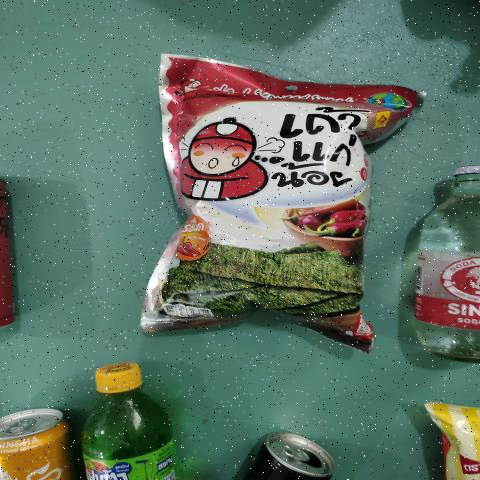taokaenoi: (154, 76, 398, 316)
